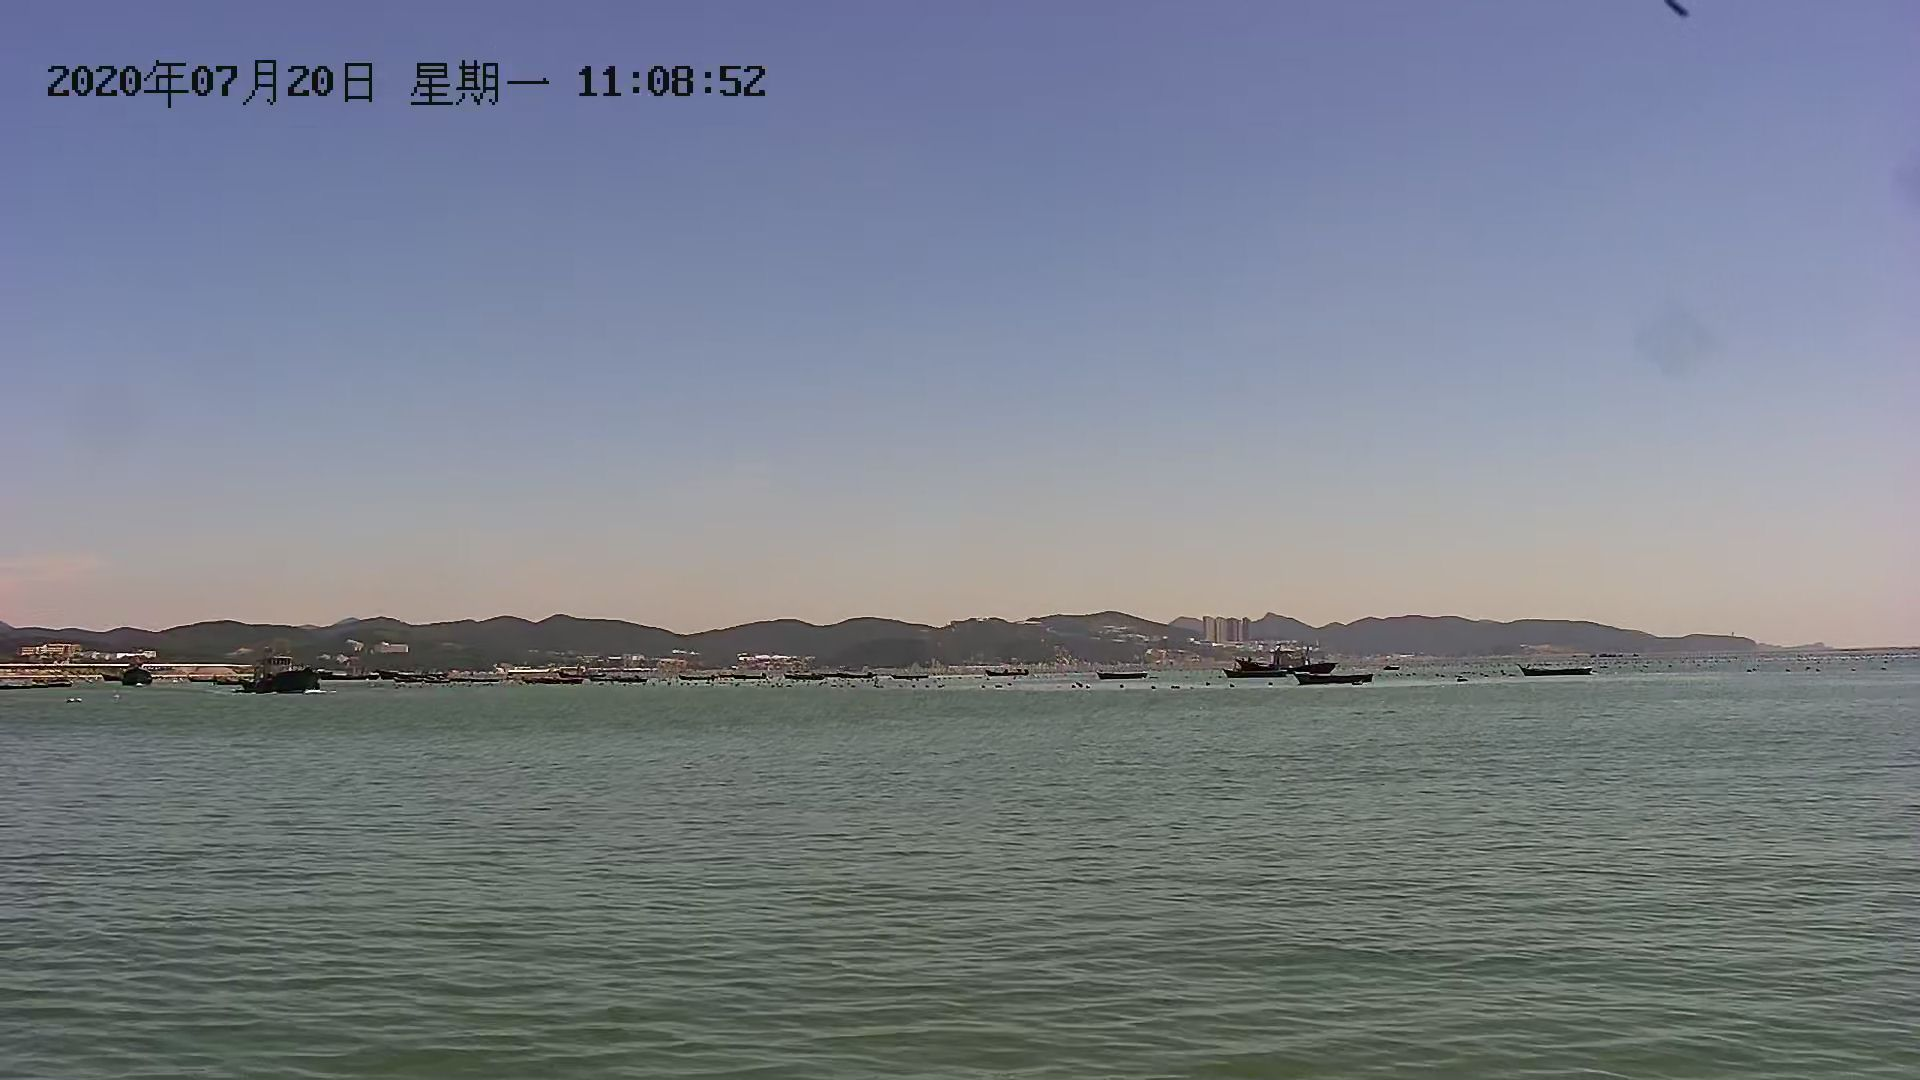boat: (1236, 654, 1325, 679), (1513, 661, 1600, 683), (1288, 675, 1393, 687), (1093, 667, 1149, 686)
ship: (237, 647, 331, 700), (108, 650, 156, 687)
